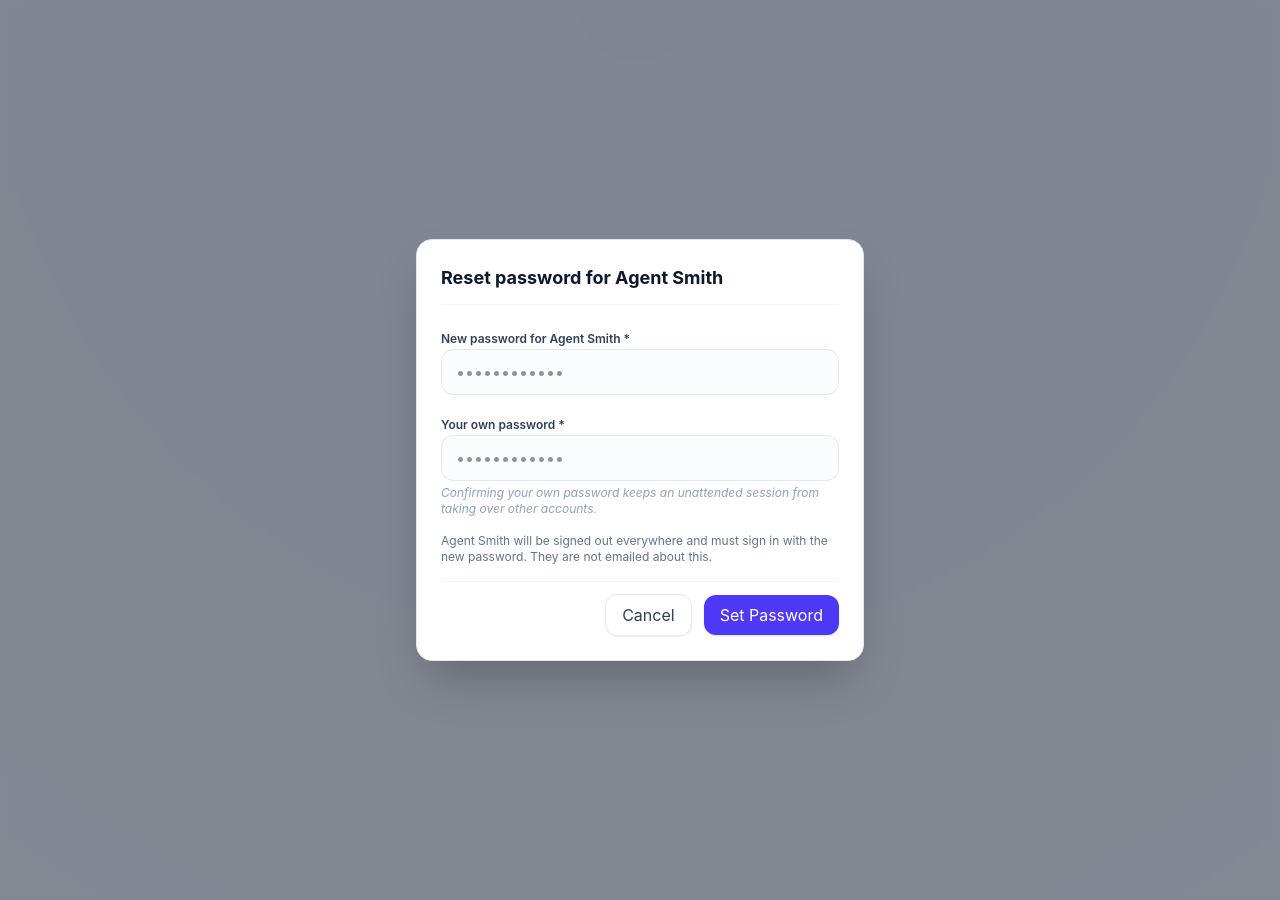
Test: UserPasswordDialog › renders a wrong own-password error under that field
Type "new-secret-1" into the password field with test id "user-password-new". click: (640, 372)
box: x1=441 y1=349 x2=839 y2=395
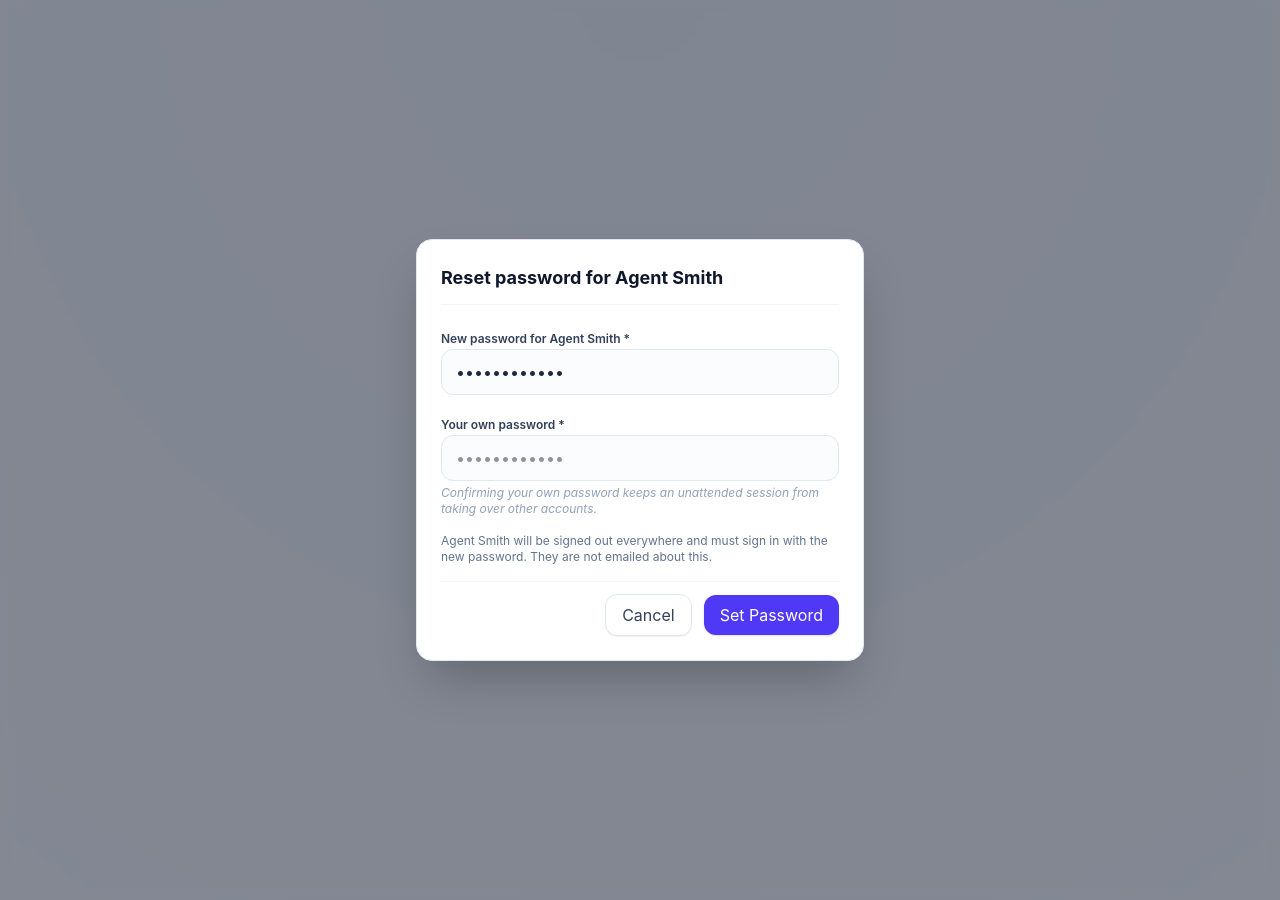
Type "admin-secret" into the password field with test id "user-password-current". click: (640, 458)
box: x1=441 y1=435 x2=839 y2=481
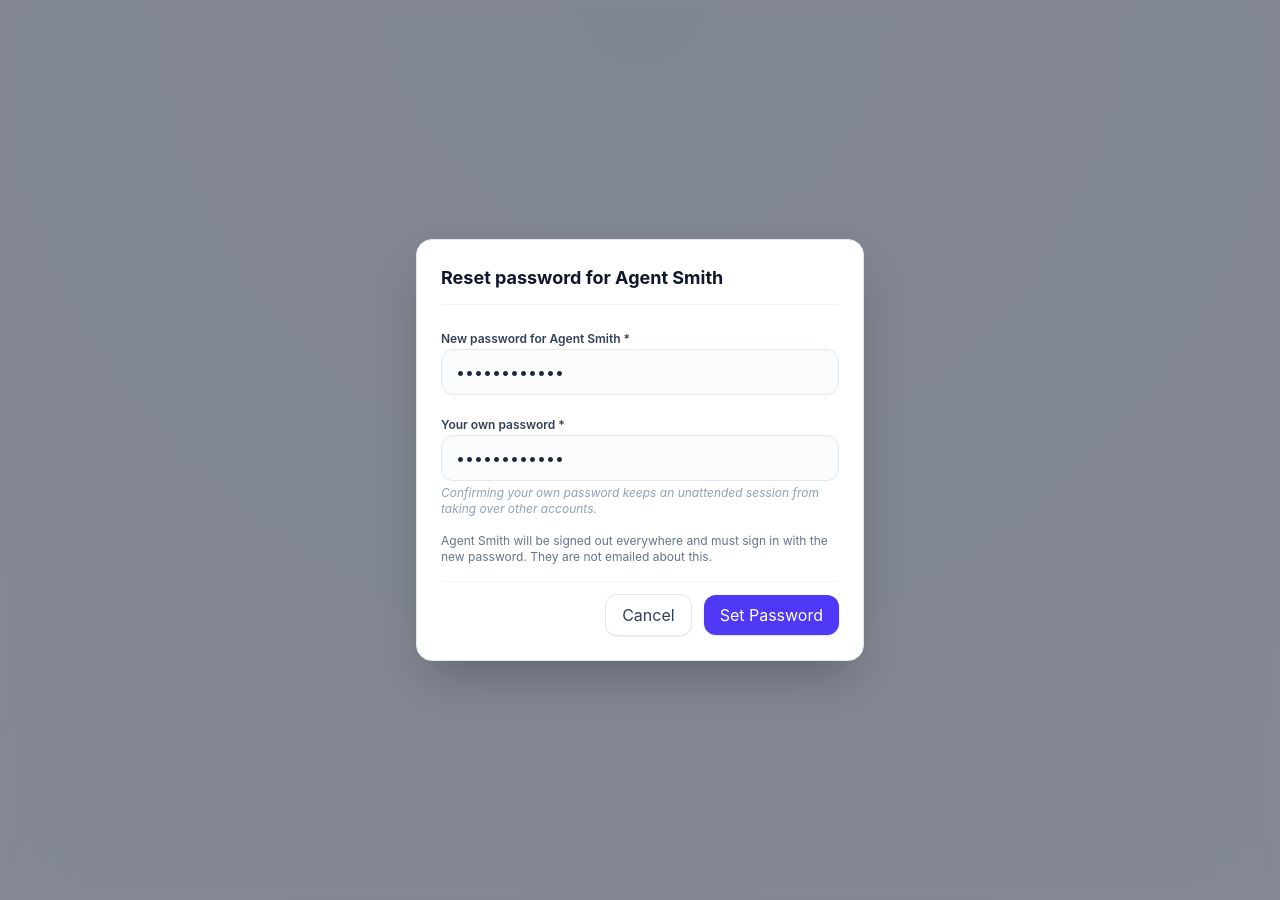
Submit the form with test id "user-password-form", box x1=441 y1=325 x2=839 y2=636
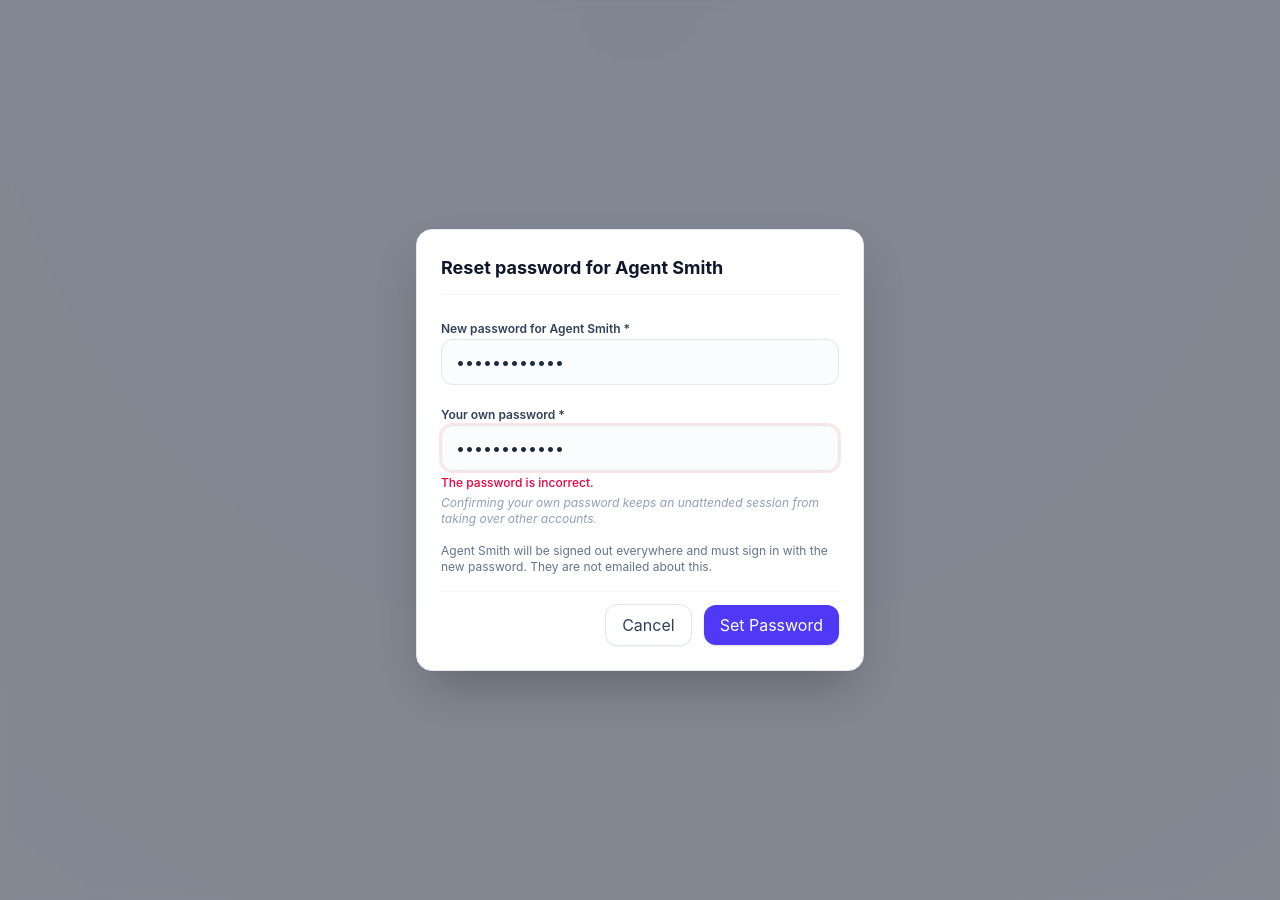
Check: the text with test id "user-password-error-current_password" reads "The password is incorrect.", box x1=441 y1=475 x2=594 y2=490
